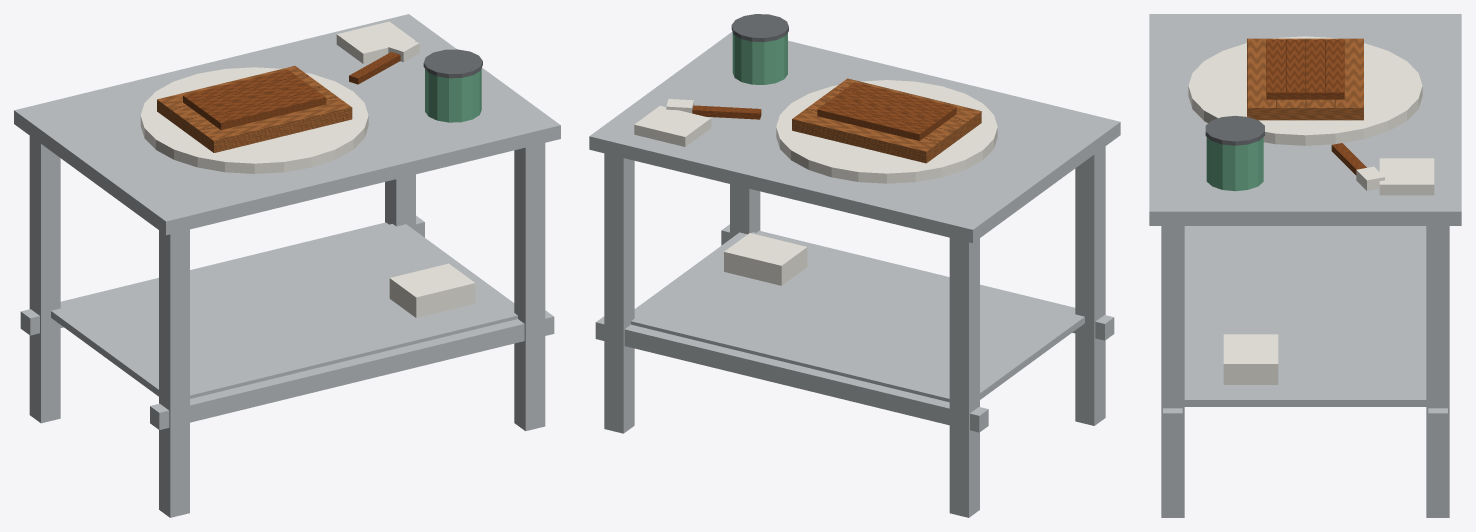
File: woodworking-workshop-and-joinery-woodworking-workshop--03c076c9__34265.glb
3 views of the same model, side by side, from view 1: azimuth 30°, elevation 25°; view 2: azimuth 150°, elevation 25°; view 3: azimuth 270°, elevation 25° (orthographic). The views are drawn at different scales.
Parts seen in each view (by area): view 1: woodworking-workshop-and-joinery-finishing-table; view 2: woodworking-workshop-and-joinery-finishing-table; view 3: woodworking-workshop-and-joinery-finishing-table.
Boxes of the visible parts, <box> form: woodworking-workshop-and-joinery-finishing-table: <box>14,14,560,517</box>; woodworking-workshop-and-joinery-finishing-table: <box>589,14,1120,517</box>; woodworking-workshop-and-joinery-finishing-table: <box>1149,14,1461,517</box>.
Bounding box in the file's own units: 1.2 × 1.02 × 0.8.
Materials: 6 (2 with a texture image).
